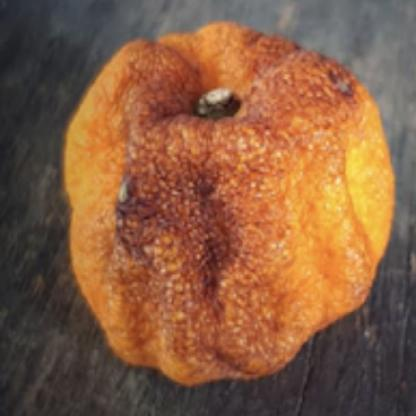rotten: (70, 27, 394, 391)
